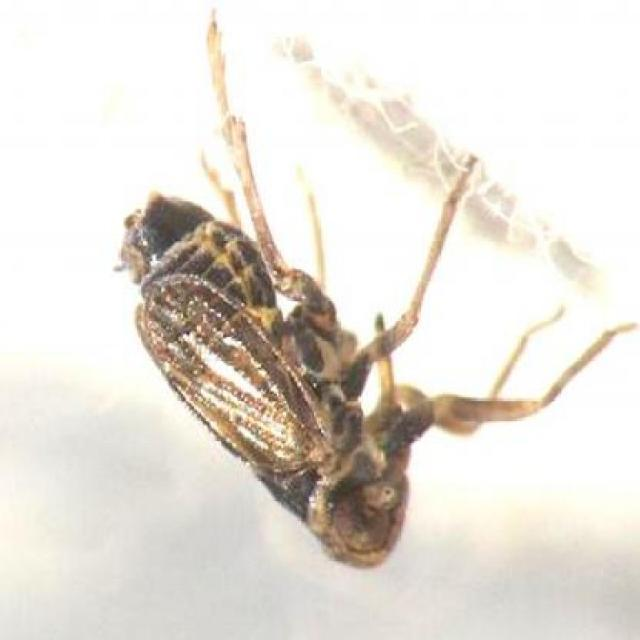brown-planthopper: (126, 177, 432, 580)
